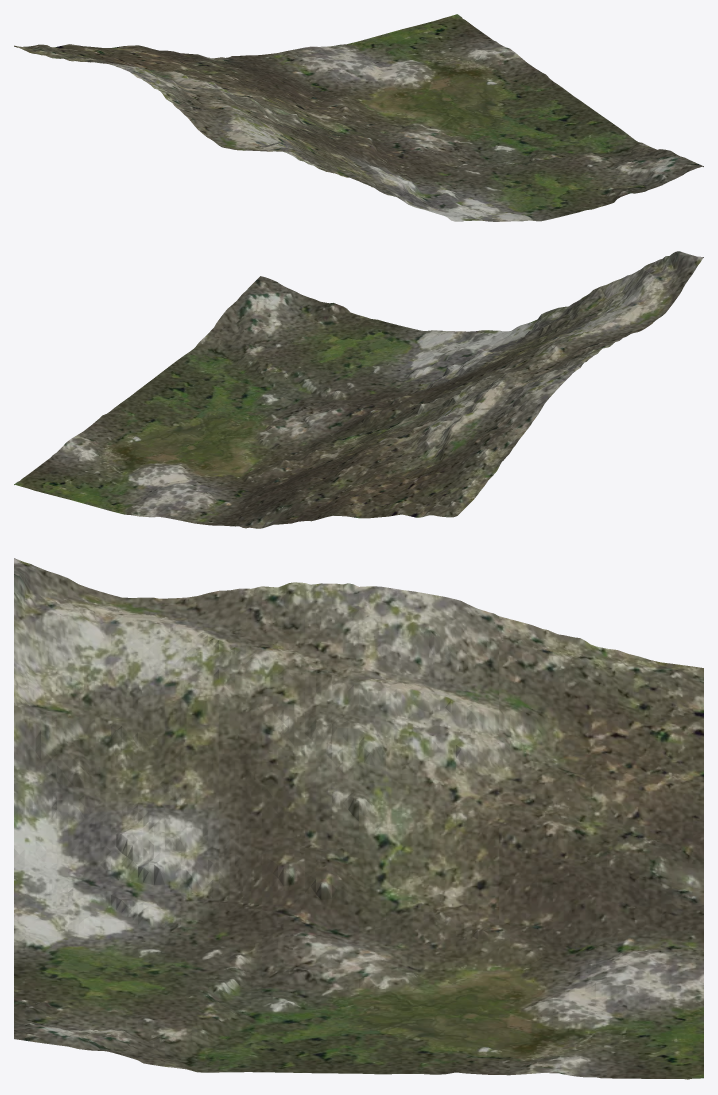
The picture shows the model from 3 angles, top to bottom: view 1: azimuth 30°, elevation 25°; view 2: azimuth 150°, elevation 25°; view 3: azimuth 270°, elevation 25°; orthographic projection. The views are drawn at different scales.
Size of the model in its own units: 500 by 172 by 481.
1 material, 1 textured.
